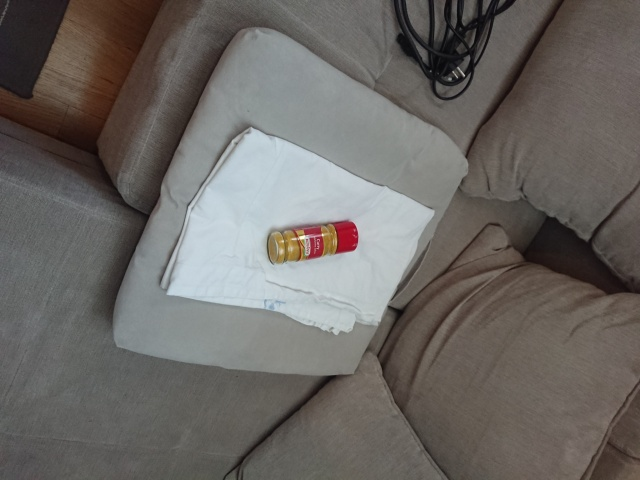Kotanyi Curry Spices Mix 70g: (265, 218, 360, 268)
